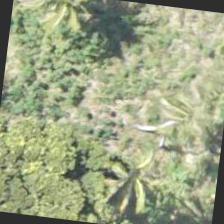Kelapa_Sawit: (80, 124, 180, 224), (147, 71, 223, 170)
